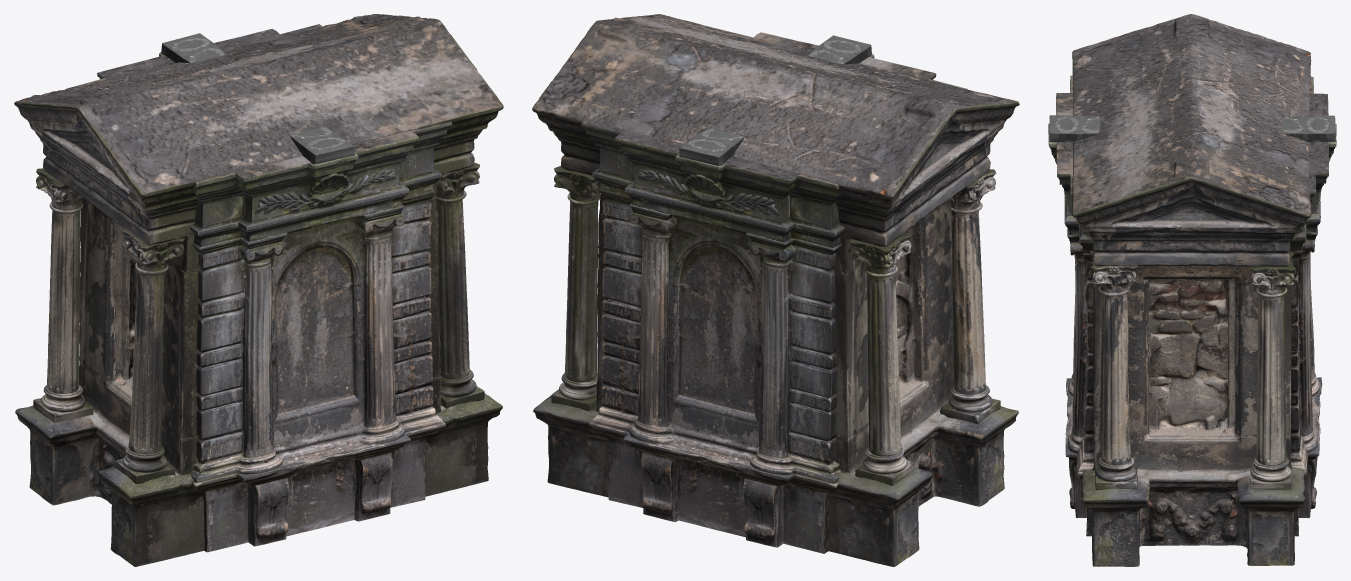
The model's file is sm_Grave_03_03.fbx.
3 views of the same model, side by side, from view 1: azimuth 30°, elevation 25°; view 2: azimuth 150°, elevation 25°; view 3: azimuth 270°, elevation 25° (orthographic). The views are drawn at different scales.
Visible parts, largest first — view 1: sm_Grave_03_03_LOD0; view 2: sm_Grave_03_03_LOD0; view 3: sm_Grave_03_03_LOD0.
Part boxes in pixels (x1=…): sm_Grave_03_03_LOD0: x1=14, y1=14, x2=503, y2=566; sm_Grave_03_03_LOD0: x1=532, y1=14, x2=1019, y2=566; sm_Grave_03_03_LOD0: x1=1048, y1=14, x2=1336, y2=566.
Size of the model in its own units: 310 by 224 by 337.
